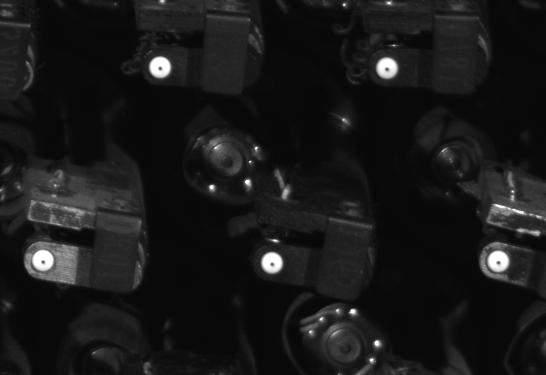fiber: (257, 246, 291, 277), (484, 245, 513, 278), (144, 52, 175, 81), (30, 245, 59, 276), (371, 54, 401, 83)
